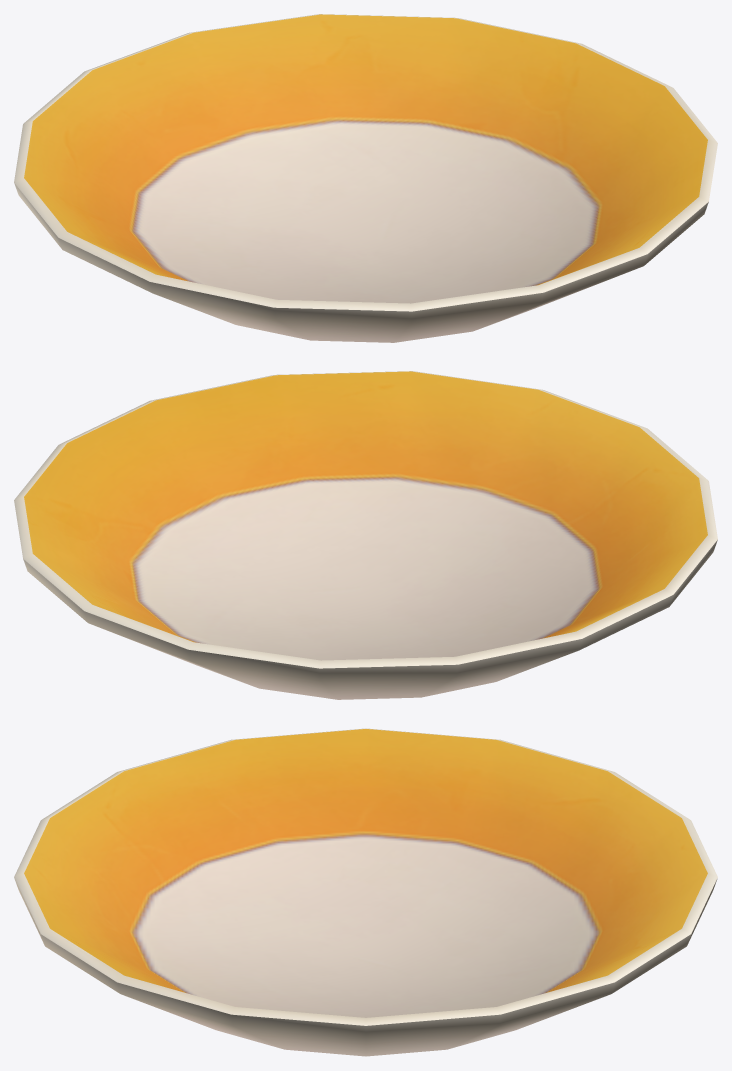
The model's file is SE_Plate_02.fbx.
3 views of the same model, one above another, from view 1: azimuth 30°, elevation 25°; view 2: azimuth 150°, elevation 25°; view 3: azimuth 270°, elevation 25° (orthographic).
Visible parts, largest first — view 1: SE_Plate_02; view 2: SE_Plate_02; view 3: SE_Plate_02.
Part boxes in pixels (x1=…): SE_Plate_02: x1=14, y1=14, x2=717, y2=342; SE_Plate_02: x1=14, y1=371, x2=717, y2=699; SE_Plate_02: x1=14, y1=728, x2=717, y2=1056.
Size of the model in its own units: 1.91 by 0.2858 by 1.91.
